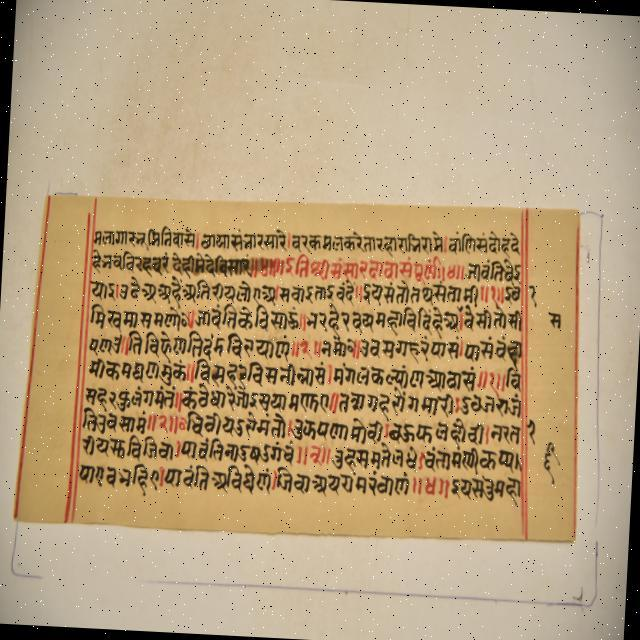text_paragraph: (12, 191, 579, 541)
